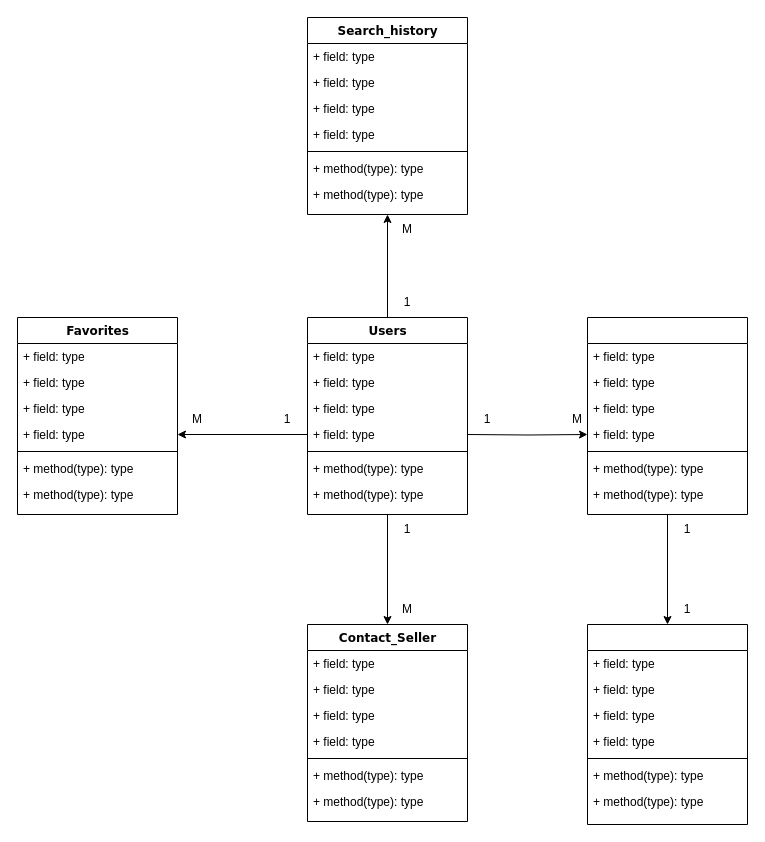
Some shapes in this 765 by 842 pixel diagram are drawn without their labels. The shapes that lost their labels are listed below. From the top down, each one's box as (x1, y1, x2, y2) in pixels, then its label:
(586, 316, 748, 514): Cards
(586, 624, 748, 824): Cars
